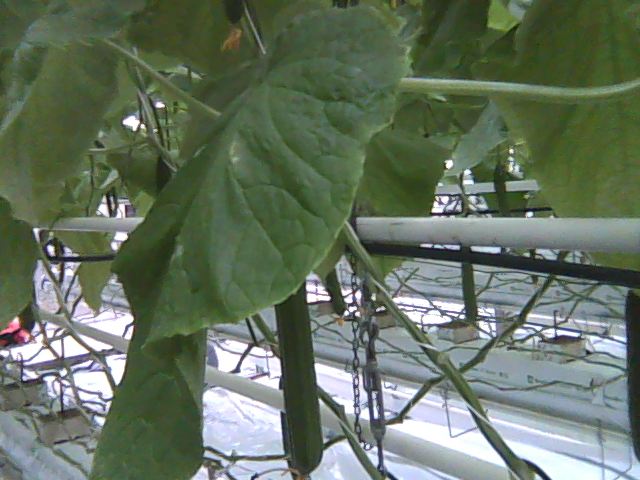concombre: (273, 280, 324, 480)
